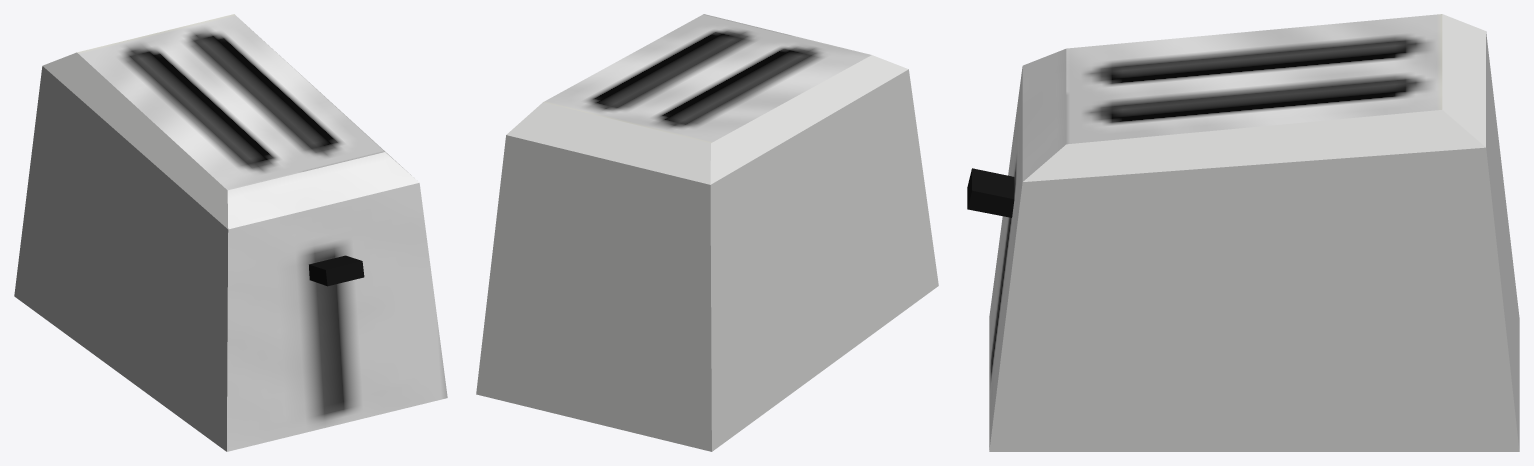
The model's file is Toaster.fbx.
The picture shows the model from 3 angles, left to right: view 1: azimuth 30°, elevation 25°; view 2: azimuth 150°, elevation 25°; view 3: azimuth 270°, elevation 25°; orthographic projection. The views are drawn at different scales.
Parts seen in each view (by area): view 1: Maya_File_Assets:TexturedAssetsCurrent:joshimport:toaster; view 2: Maya_File_Assets:TexturedAssetsCurrent:joshimport:toaster; view 3: Maya_File_Assets:TexturedAssetsCurrent:joshimport:toaster.
Boxes of the visible parts, x1,y1,x2,y2 form: Maya_File_Assets:TexturedAssetsCurrent:joshimport:toaster: [14, 14, 447, 451]; Maya_File_Assets:TexturedAssetsCurrent:joshimport:toaster: [476, 14, 938, 451]; Maya_File_Assets:TexturedAssetsCurrent:joshimport:toaster: [967, 14, 1519, 451].
Bounding box in the file's own units: 0.1984 × 0.2221 × 0.3442.
